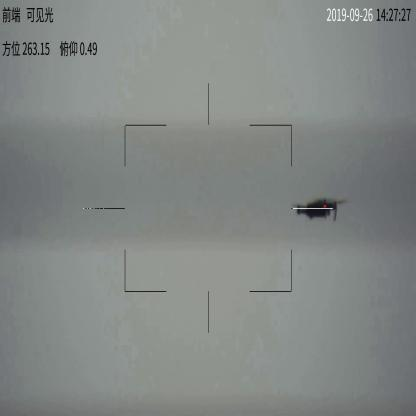uav: (287, 196, 346, 222)
